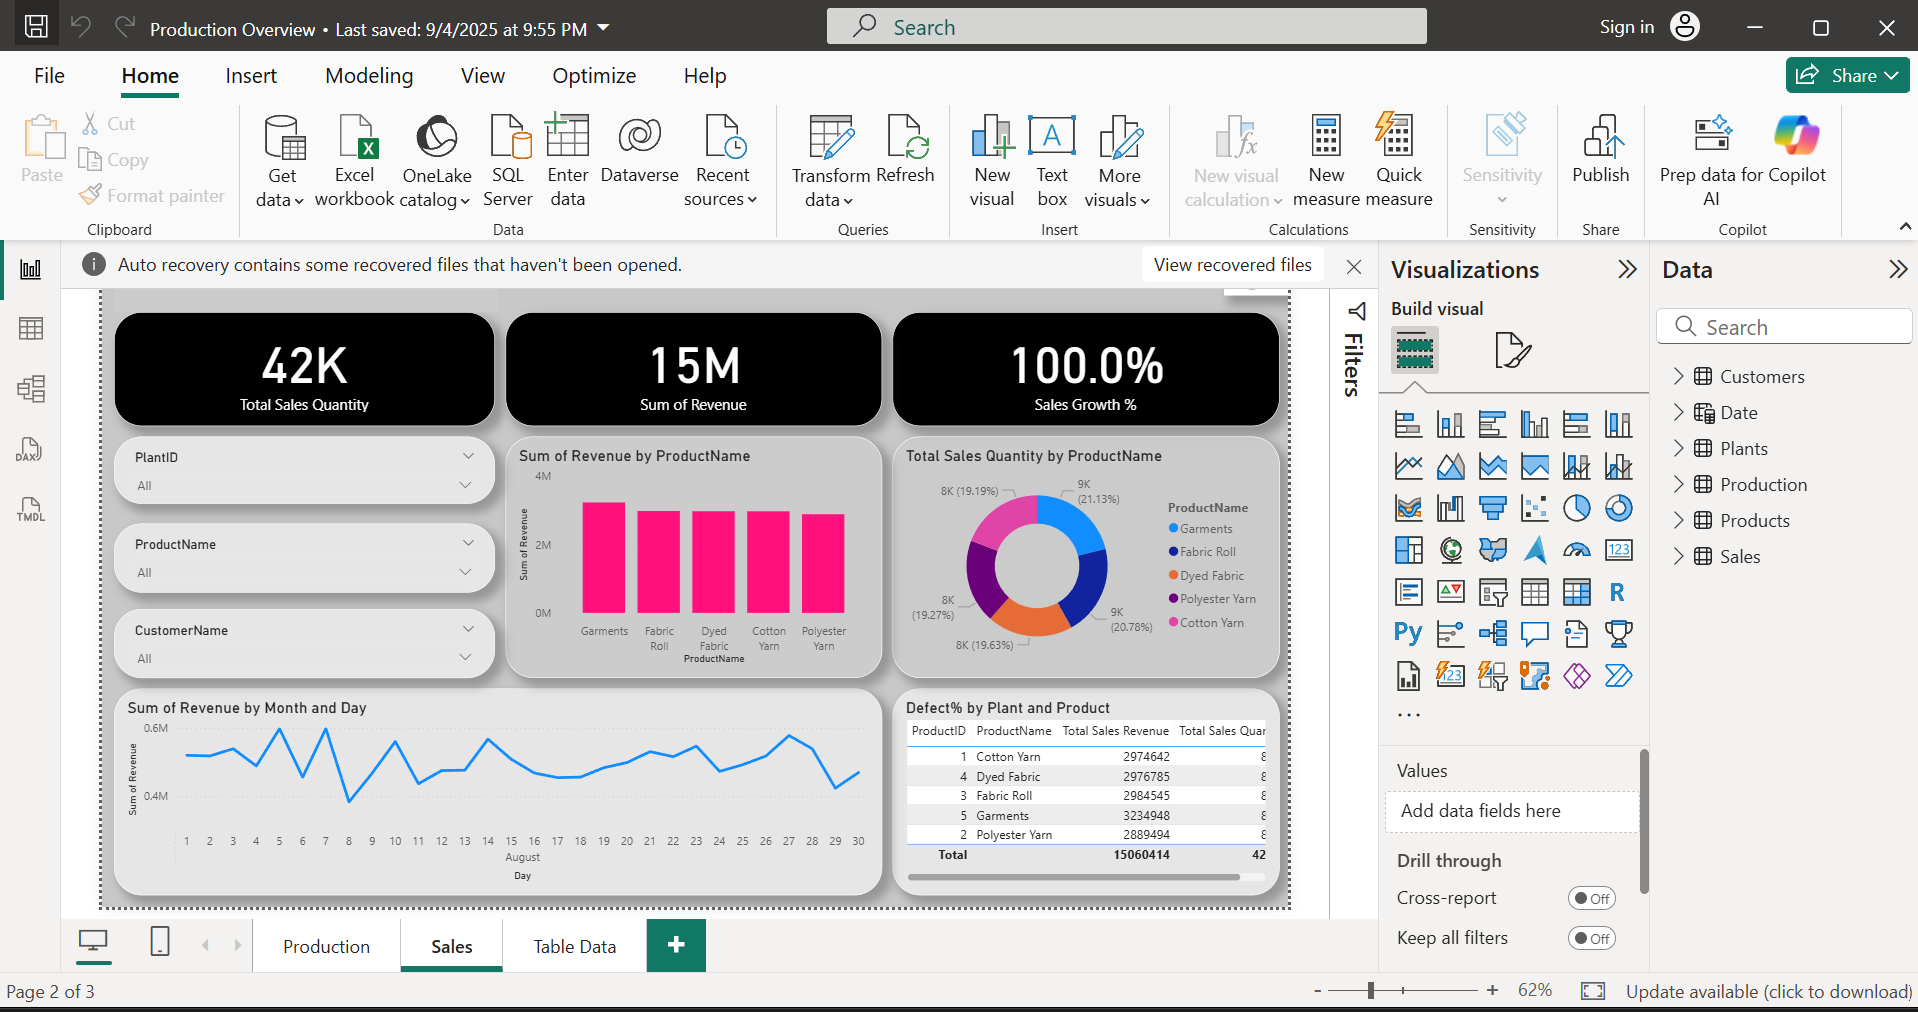

What the dashboard file says about the page in this screenshot:
{"tool":"powerbi","page":{"name":"Sales","canvas":[1280,720],"ordinal":1},"visuals":[{"type":"tableEx","title":"Defect% by Plant and Product","fields":{"Values":["Sales.ProductID","Products.ProductName","Sales.Total Sales Revenue","Sales.Total Sales Quantity"]},"box":[853.3,484.1,417.8,223.5],"z":0},{"type":"card","fields":{"Values":["Sales.Total Sales Quantity"]},"box":[13,77.7,411.3,123.1],"z":1000},{"type":"card","fields":{"Values":["Sales.Sales Growth %"]},"box":[853.3,77.7,417.8,123.1],"z":2000},{"type":"card","title":"Per Plant","fields":{"Values":["Sum(Sales.Revenue)"]},"box":[435.6,77.7,406.4,123.1],"z":3000},{"type":"donutChart","fields":{"Category":["Products.ProductName"],"Y":["Sales.Total Sales Quantity"]},"box":[853.3,212.1,417.8,260.7],"z":4000},{"type":"lineChart","fields":{"Y":["Sum(Sales.Revenue)"],"Category":["Date.Date.Variation.Date Hierarchy.Month","Date.Date.Variation.Date Hierarchy.Day"]},"box":[13,484.1,829,223.5],"z":5000},{"type":"textbox","box":[13,0,414.5,77.7],"z":6000},{"type":"clusteredColumnChart","fields":{"Y":["Sum(Sales.Revenue)"],"Category":["Products.ProductName"]},"box":[435.6,212.1,406.4,260.7],"z":7000},{"type":"slicer","fields":{"Values":["Products.ProductName"]},"box":[13,306,411.3,74.5],"z":8000},{"type":"slicer","fields":{"Values":["Production.PlantID"]},"box":[13,212.1,411.3,72.9],"z":9000},{"type":"slicer","fields":{"Values":["Customers.CustomerName"]},"box":[13,398.3,411.3,74.5],"z":10000},{"type":"actionButton","box":[1211.2,0,69.6,59.9],"z":10002}]}

Visuals, with their boxes on the page's 1280x720 design canvas (x1, y1, x2, y2). These are canvas units, not pixel positions in the 1918x1012 screenshot, which may show the page scaled, cropped or inside an application window:
"Defect% by Plant and Product" tableEx: x1=853 y1=484 x2=1271 y2=708
card - Sales.Total Sales Quantity: x1=13 y1=78 x2=424 y2=201
card - Sales.Sales Growth %: x1=853 y1=78 x2=1271 y2=201
"Per Plant" card: x1=436 y1=78 x2=842 y2=201
donutChart - Products.ProductName x Sales.Total Sales Quantity: x1=853 y1=212 x2=1271 y2=473
lineChart - Sum(Sales.Revenue) x Date.Date.Variation.Date Hierarchy.Month: x1=13 y1=484 x2=842 y2=708
textbox: x1=13 y1=0 x2=428 y2=78
clusteredColumnChart - Sum(Sales.Revenue) x Products.ProductName: x1=436 y1=212 x2=842 y2=473
slicer - Products.ProductName: x1=13 y1=306 x2=424 y2=380
slicer - Production.PlantID: x1=13 y1=212 x2=424 y2=285
slicer - Customers.CustomerName: x1=13 y1=398 x2=424 y2=473
actionButton: x1=1211 y1=0 x2=1281 y2=60
